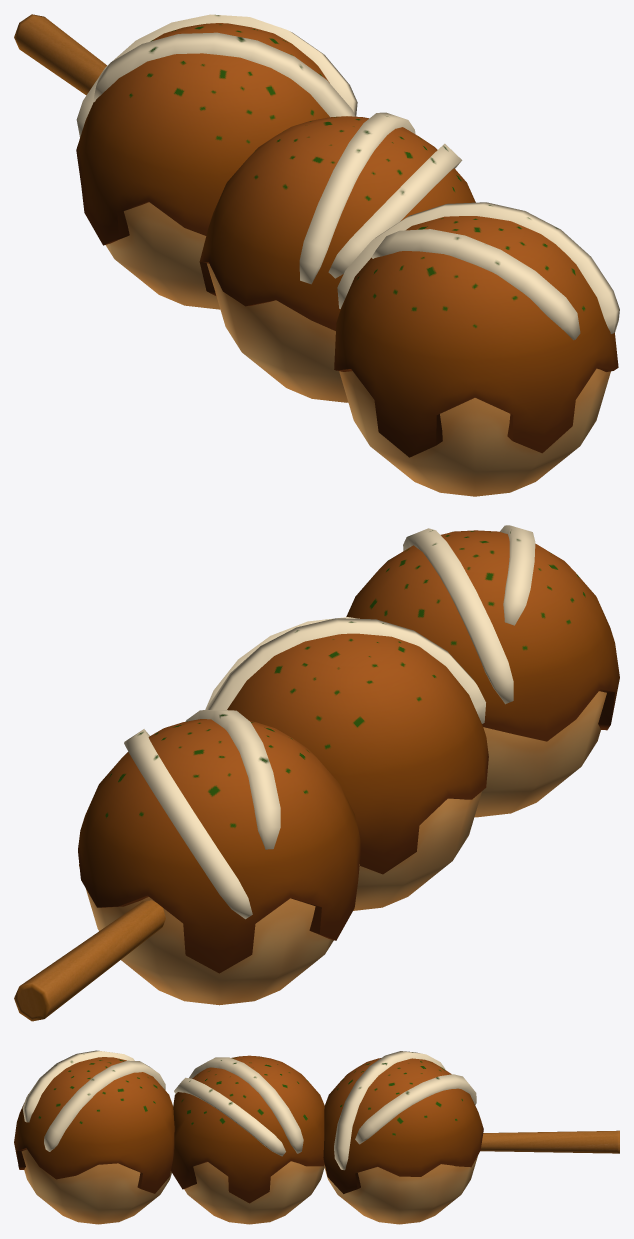
File: Takoyaki.fbx
3 views of the same model, one above another, from view 1: azimuth 30°, elevation 25°; view 2: azimuth 150°, elevation 25°; view 3: azimuth 270°, elevation 25° (orthographic). The views are drawn at different scales.
Parts seen in each view (by area): view 1: Takoyaki; view 2: Takoyaki; view 3: Takoyaki.
Part boxes in pixels (x1=…): Takoyaki: x1=14, y1=14, x2=619, y2=496; Takoyaki: x1=14, y1=525, x2=619, y2=1021; Takoyaki: x1=14, y1=1050, x2=619, y2=1224.
Size of the model in its own units: 52.03 by 53.62 by 187.
